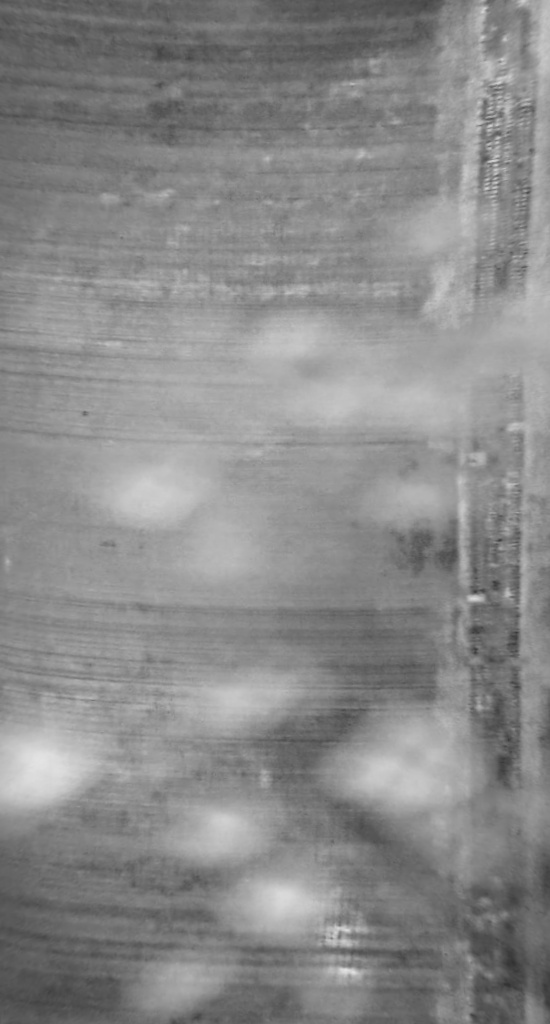splice: (451, 1, 548, 1023)
